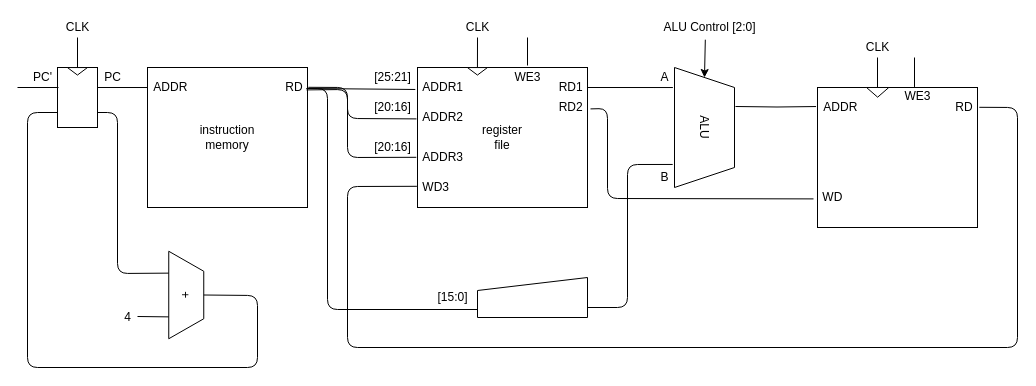
Image size: 1036x386. Some labels were removed from this diagram. The shapes that lost their labels are listed below. From the top down, each one's box as (x1, y1, x2, y2) in pixels, then its label:
(816, 86, 978, 228): data memory
(476, 276, 588, 318): sign extend
